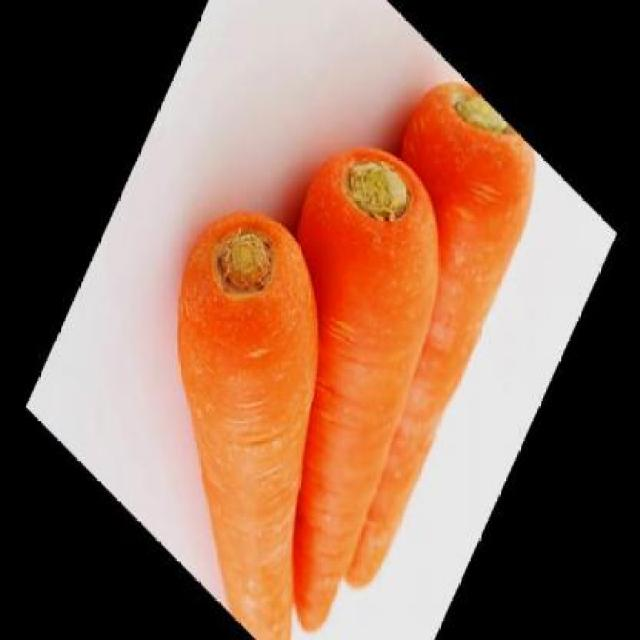carrot: (242, 51, 558, 603), (168, 101, 492, 638), (89, 167, 425, 638)
